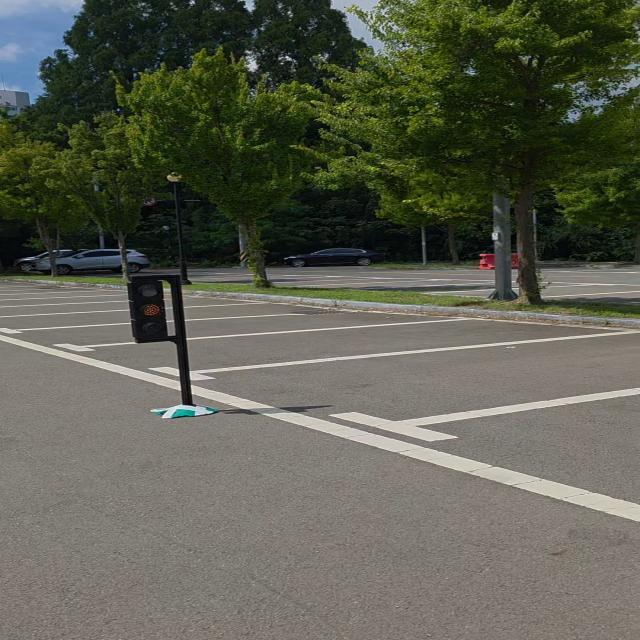yellow: (114, 270, 186, 349)
